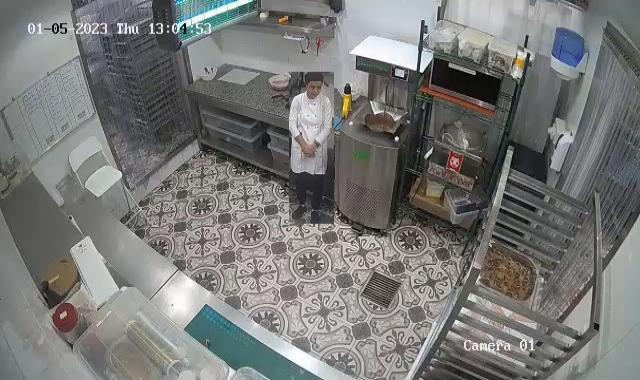no_hairnet: (302, 72, 326, 88)
